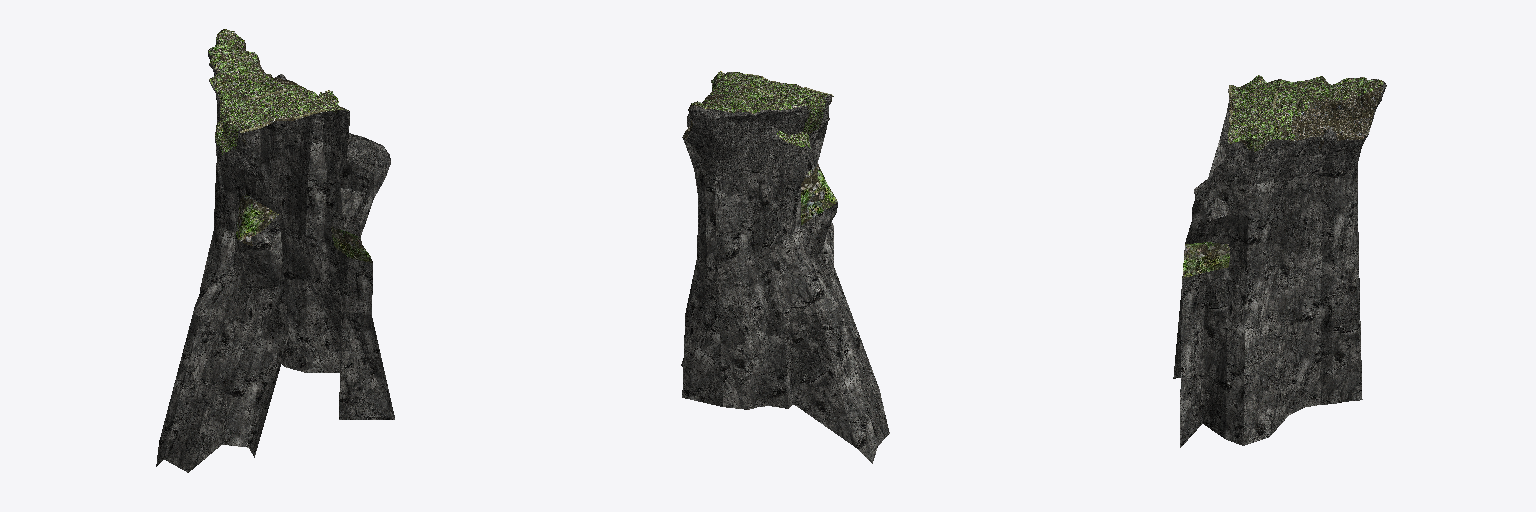
3 renders of one model, left to right at view 1: azimuth 30°, elevation 25°; view 2: azimuth 150°, elevation 25°; view 3: azimuth 270°, elevation 25°, orthographic.
Parts seen in each view (by area): view 1: mesh2, mesh5, mesh6; view 2: mesh2, mesh6, mesh5; view 3: mesh2, mesh5, mesh6, mesh4, mesh8, mesh0.
Boxes of the visible parts, <box> form: mesh2: <box>156,40,394,472</box>; mesh5: <box>211,29,329,129</box>; mesh6: <box>208,29,372,262</box>; mesh2: <box>681,95,889,463</box>; mesh6: <box>695,71,837,224</box>; mesh5: <box>692,75,833,110</box>; mesh2: <box>1173,82,1386,447</box>; mesh5: <box>1231,76,1383,135</box>; mesh6: <box>1183,75,1383,277</box>; mesh4: <box>1230,86,1382,126</box>; mesh8: <box>1228,89,1373,151</box>; mesh0: <box>1228,91,1363,140</box>.
Bounding box in the file's own units: 22.06 × 38.02 × 19.91.
9 materials, 5 textured.